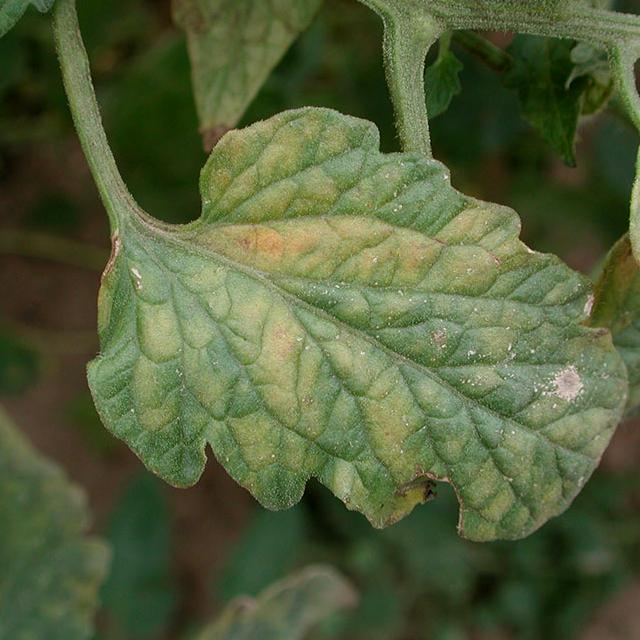Tomato mold leaf: (84, 107, 640, 566), (619, 122, 640, 346)
